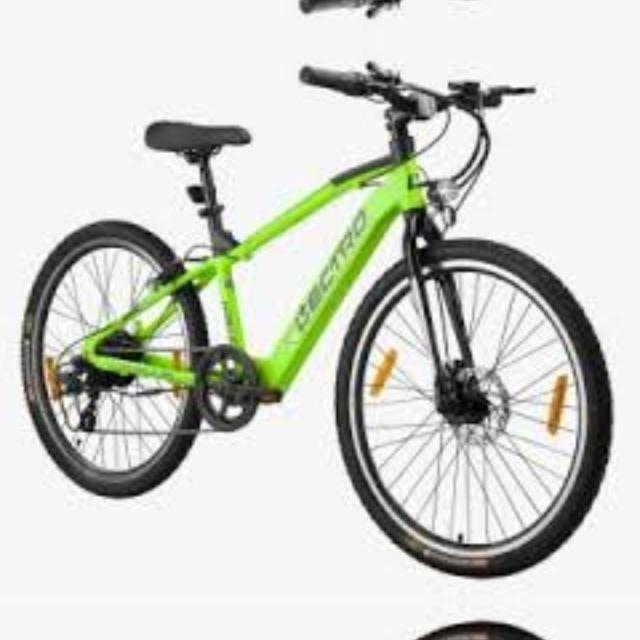obstacle: (17, 51, 626, 573), (16, 0, 625, 29), (16, 627, 625, 640)
